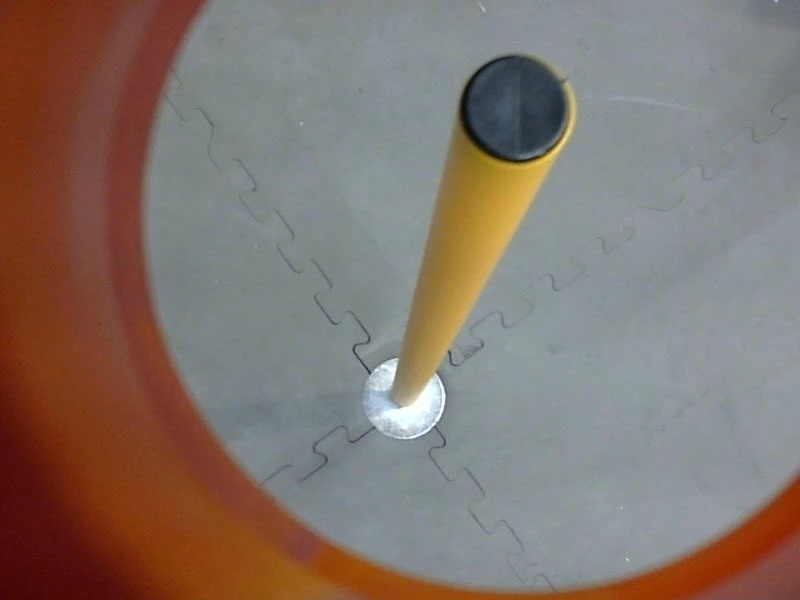tip: (455, 41, 579, 171)
